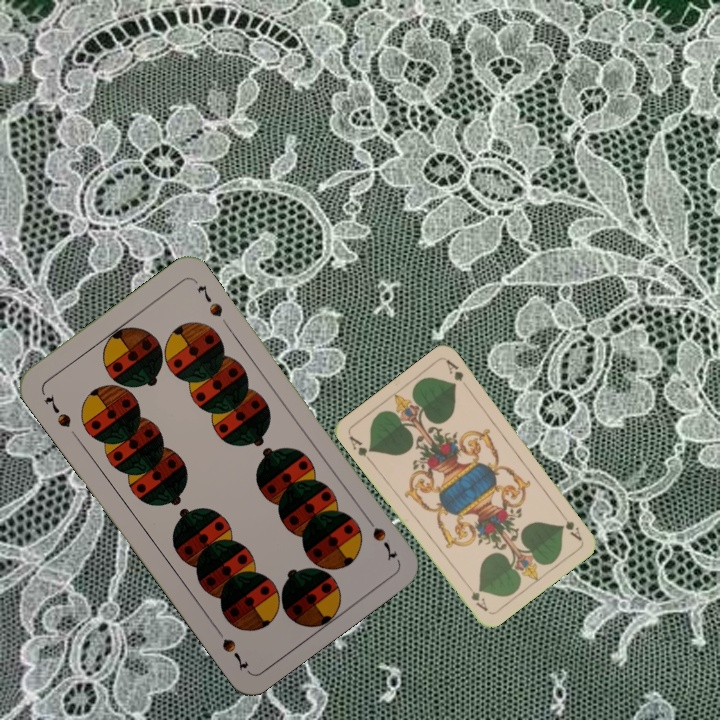GA: (344, 431, 375, 466), (556, 508, 585, 543)
S7: (361, 511, 400, 564), (39, 391, 74, 430)
